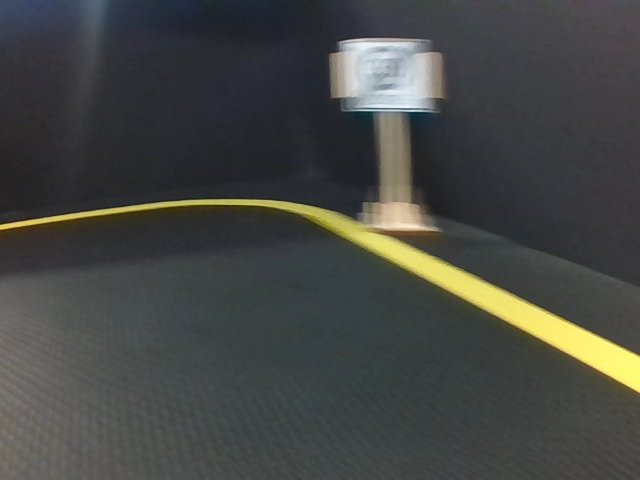no30: (346, 38, 431, 110)
